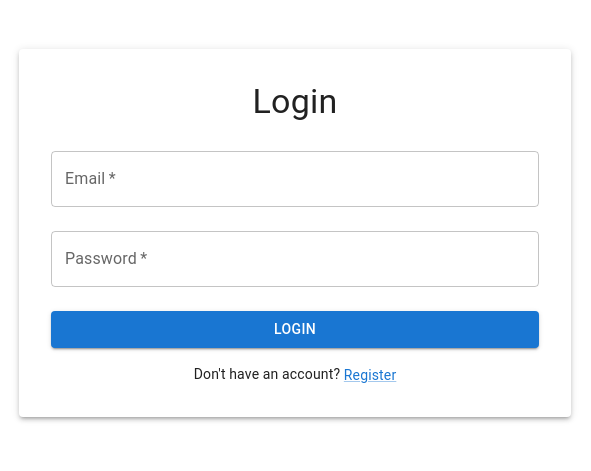
Login Component › shows error on failed login
In the field labelled "Email *": (295,179) [51,151,539,207], type "wrong@example.com"
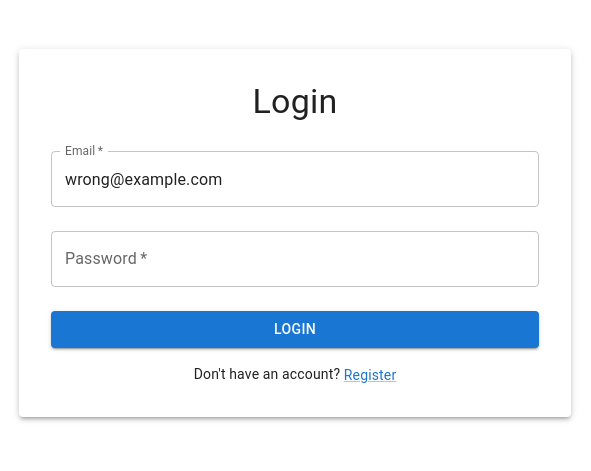
In the password field labelled "Password *": (295,259) [51,231,539,287], type "wrongpass"
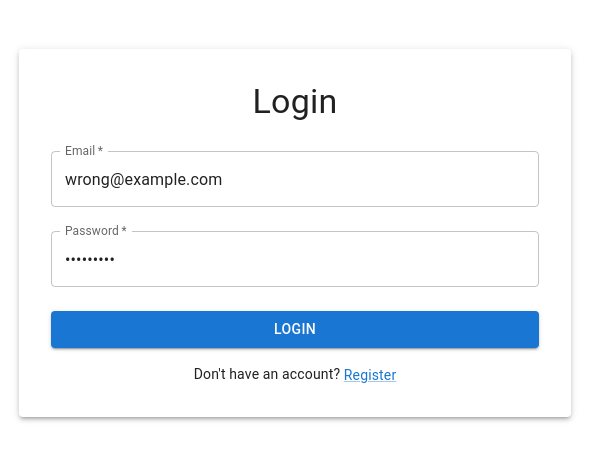
Click the button "Login": (295,329) [51,311,539,348]
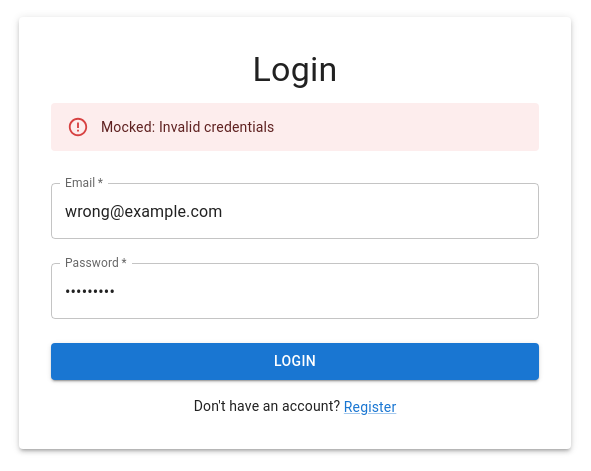
Check: the text "Mocked: Invalid credentials" is shown, box [101,119,274,135]
